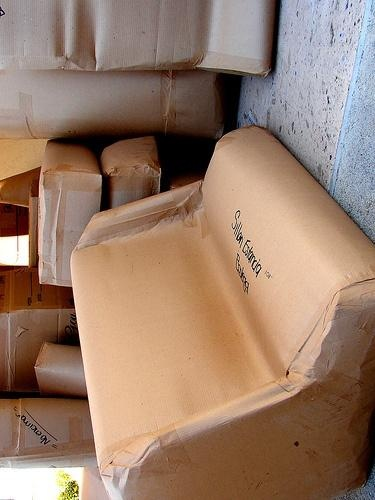sofa: (69, 122, 375, 500)
